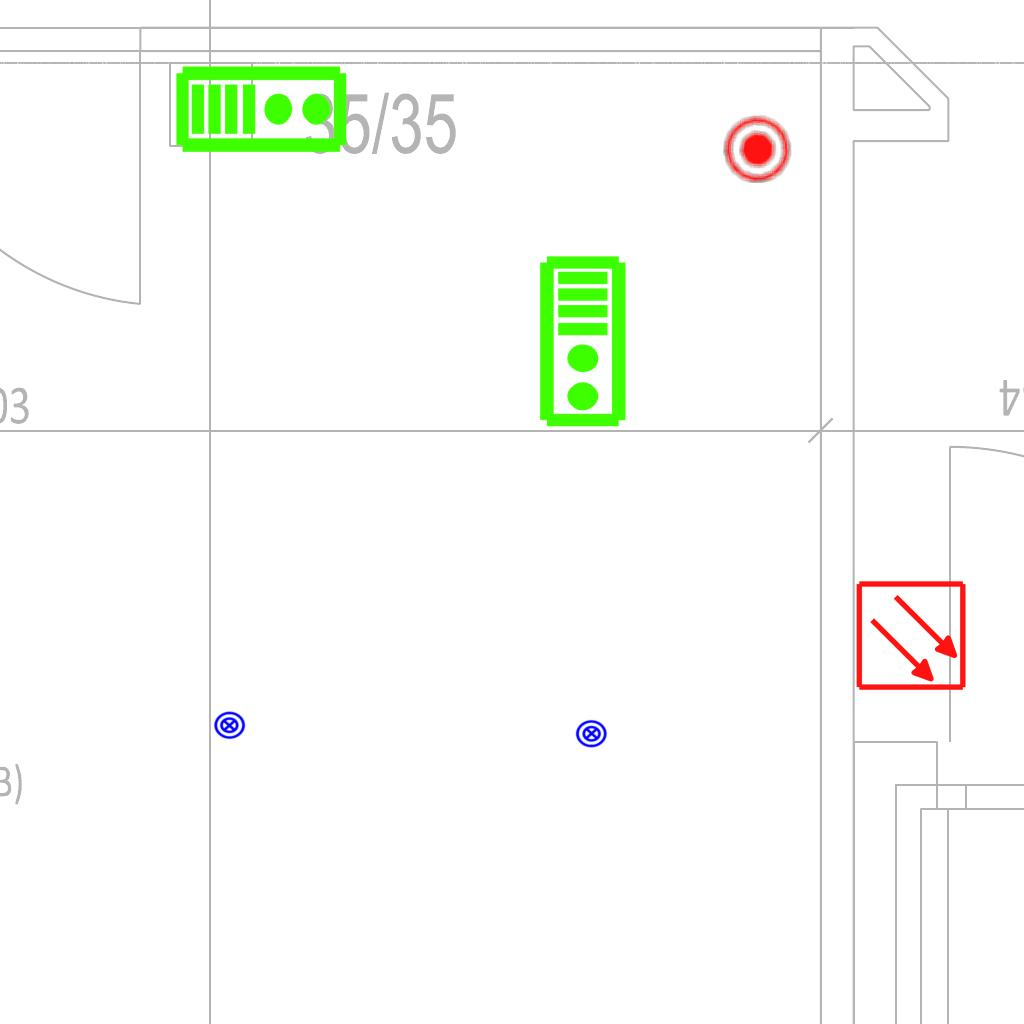Gegensprechanlage_mit_Video: (174, 60, 350, 155), (537, 254, 632, 430)
RMO_Rauchmelder_optischer: (855, 579, 968, 692)
Taster: (721, 111, 795, 185)
Taster_beleuchtet: (213, 709, 246, 742), (575, 717, 608, 750)
